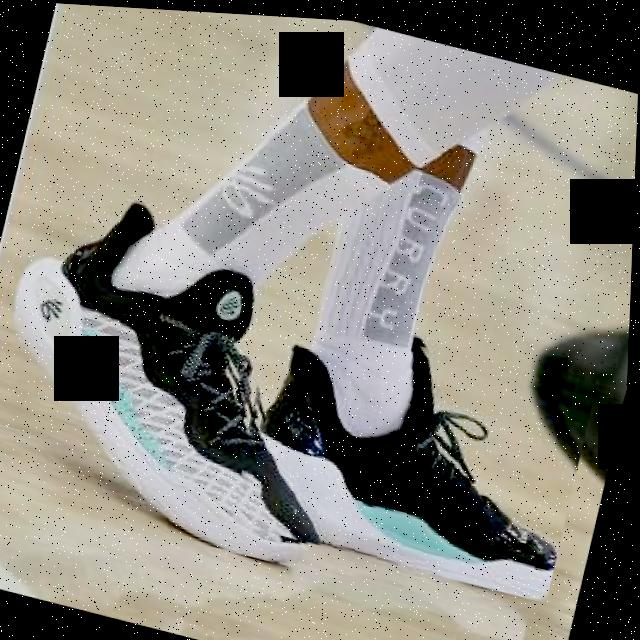shoe: (0, 174, 378, 568), (222, 295, 602, 598)
